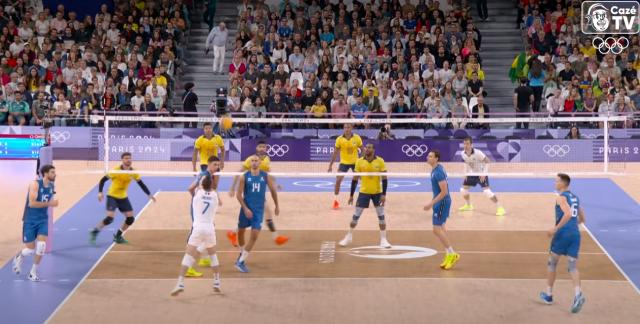Levantador: (94, 150, 154, 242), (424, 148, 458, 270)
Libero: (172, 176, 220, 296), (460, 136, 504, 216)
bola: (217, 114, 233, 132)
